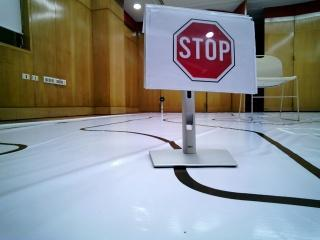stop: (156, 9, 248, 87)
